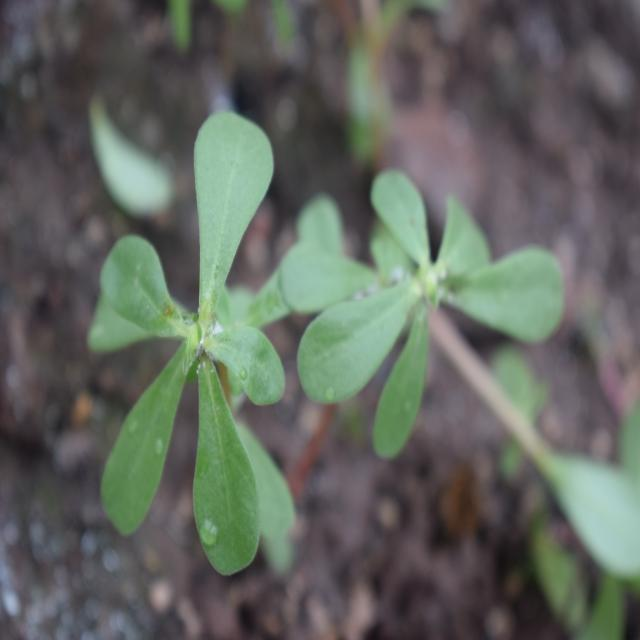purslane: (92, 91, 553, 567)
